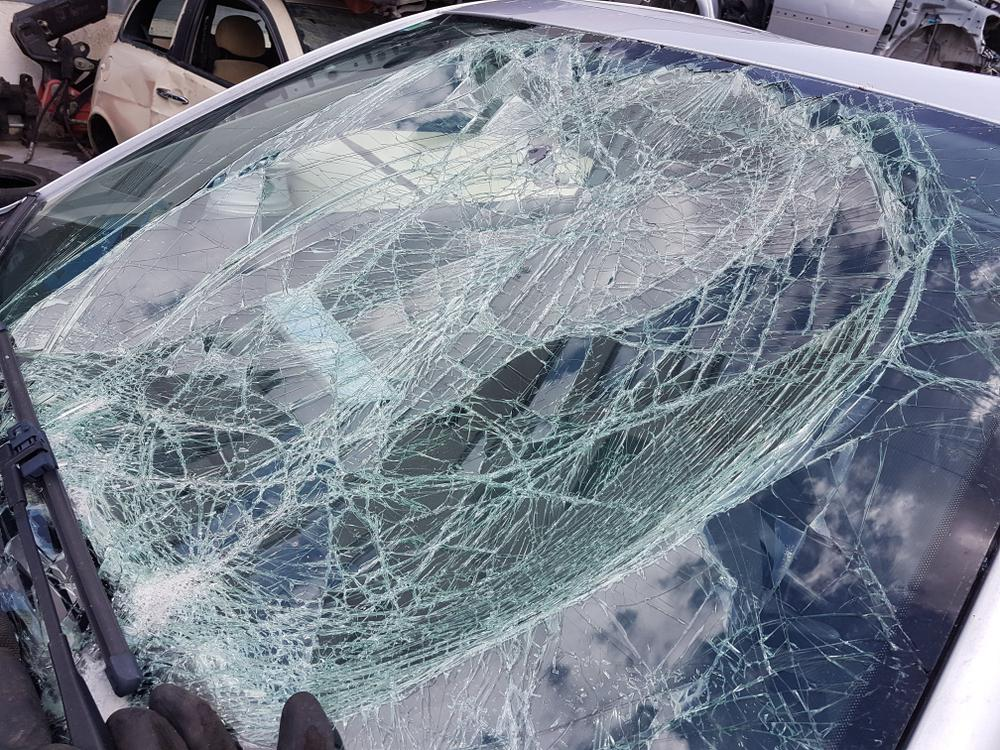glass shatter: (0, 13, 1000, 750)
